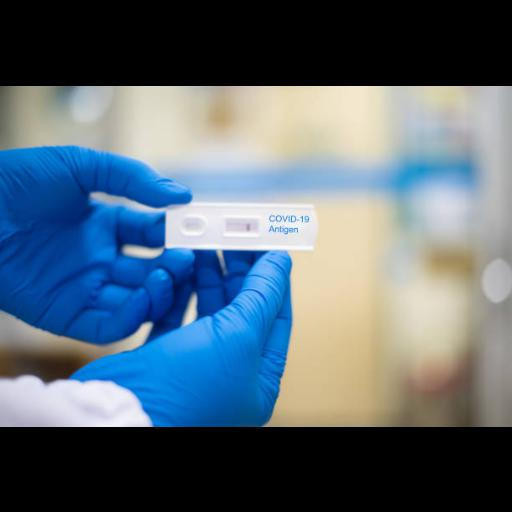Neg: (166, 204, 312, 250)
